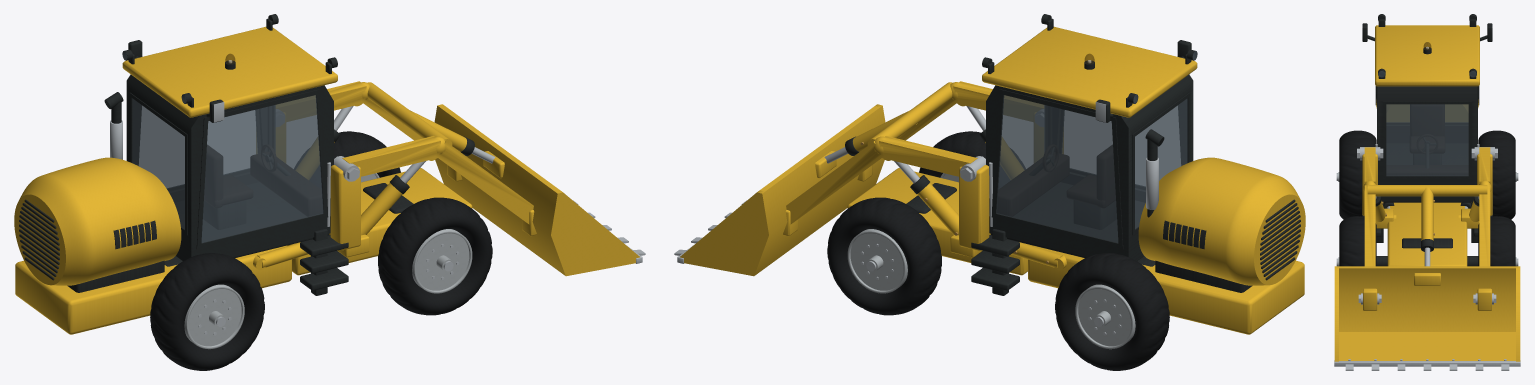
The model's file is wheel-loader.glb.
3 renders of one model, left to right at view 1: azimuth 30°, elevation 25°; view 2: azimuth 150°, elevation 25°; view 3: azimuth 270°, elevation 25°, orthographic. The views are drawn at different scales.
Parts seen in each view (by area): view 1: Front articulated axle frame, Closed engine block and hood mounting bed, Loader cab 1 side glass finite glazing, Bucket rear attachment lug 1, Central bucket tilt cylinder base cross eye, Loader axle 0 right wheel rounded tyre carcass, Loader axle 1 right wheel rounded tyre carcass, Dark loader dashboard, Loader axle 1 right wheel bearing hub, Loader axle 0 right wheel bearing hub, Finite exhaust heat shield, Loader axle 0 left wheel rounded tyre carcass (+2 smaller); view 2: Front articulated axle frame, Closed engine block and hood mounting bed, Loader cab 1 side glass finite glazing, Bucket rear attachment lug 1, Central bucket tilt cylinder base cross eye, Loader axle 0 left wheel rounded tyre carcass, Loader axle 1 left wheel rounded tyre carcass, Dark loader dashboard, Loader axle 1 left wheel bearing hub, Loader axle 0 left wheel bearing hub, Finite exhaust heat shield, Loader axle 0 right wheel rounded tyre carcass (+2 smaller); view 3: Bucket rear attachment lug 1, Front articulated axle frame, Closed engine block and hood mounting bed, Loader cab 1 side glass finite glazing, Central bucket tilt cylinder base cross eye, Dark loader dashboard, Loader axle 1 left wheel rounded tyre carcass, Loader axle 1 right wheel rounded tyre carcass, Front loader bucket bolted cutting edge, Loader axle 0 left wheel rounded tyre carcass, Loader axle 0 right wheel rounded tyre carcass, Finite exhaust heat shield (+3 smaller).
Boxes of the visible parts, x1,y1,x2,y2 form: Front articulated axle frame: [14, 26, 472, 334]; Closed engine block and hood mounting bed: [19, 14, 413, 295]; Loader cab 1 side glass finite glazing: [132, 95, 323, 242]; Bucket rear attachment lug 1: [434, 104, 639, 276]; Central bucket tilt cylinder base cross eye: [276, 81, 533, 224]; Loader axle 0 right wheel rounded tyre carcass: [378, 197, 492, 315]; Loader axle 1 right wheel rounded tyre carcass: [150, 253, 264, 370]; Dark loader dashboard: [204, 144, 322, 216]; Loader axle 1 right wheel bearing hub: [184, 284, 244, 349]; Loader axle 0 right wheel bearing hub: [412, 229, 472, 293]; Finite exhaust heat shield: [110, 102, 359, 226]; Loader axle 0 left wheel rounded tyre carcass: [294, 131, 400, 188]; Front articulated axle frame: [847, 26, 1305, 334]; Closed engine block and hood mounting bed: [906, 14, 1300, 295]; Loader cab 1 side glass finite glazing: [996, 95, 1187, 242]; Bucket rear attachment lug 1: [680, 104, 885, 276]; Central bucket tilt cylinder base cross eye: [786, 81, 1043, 224]; Loader axle 0 left wheel rounded tyre carcass: [827, 197, 941, 315]; Loader axle 1 left wheel rounded tyre carcass: [1055, 253, 1169, 370]; Dark loader dashboard: [997, 144, 1115, 216]; Loader axle 1 left wheel bearing hub: [1075, 284, 1135, 349]; Loader axle 0 left wheel bearing hub: [847, 229, 907, 293]; Finite exhaust heat shield: [960, 102, 1158, 226]; Loader axle 0 right wheel rounded tyre carcass: [919, 131, 1025, 188]; Bucket rear attachment lug 1: [1334, 266, 1520, 361]; Front articulated axle frame: [1362, 25, 1492, 266]; Closed engine block and hood mounting bed: [1362, 14, 1492, 266]; Loader cab 1 side glass finite glazing: [1386, 104, 1468, 175]; Central bucket tilt cylinder base cross eye: [1363, 147, 1491, 266]; Dark loader dashboard: [1386, 104, 1468, 175]; Loader axle 1 left wheel rounded tyre carcass: [1478, 130, 1515, 219]; Loader axle 1 right wheel rounded tyre carcass: [1339, 130, 1376, 219]; Front loader bucket bolted cutting edge: [1334, 359, 1520, 370]; Loader axle 0 left wheel rounded tyre carcass: [1478, 216, 1515, 266]; Loader axle 0 right wheel rounded tyre carcass: [1339, 216, 1376, 266]; Finite exhaust heat shield: [1357, 24, 1497, 208].
Bounding box in the file's own units: 8.15 × 3.7 × 3.09.
11 materials, 8 textured.
